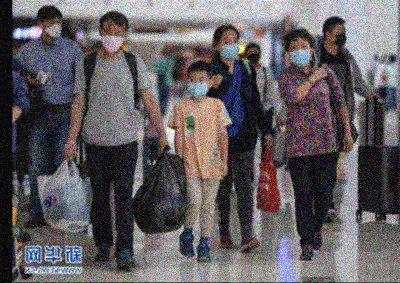with_mask: (100, 24, 123, 53), (288, 40, 311, 67), (219, 33, 239, 59), (187, 74, 208, 98), (44, 16, 62, 38), (330, 24, 346, 47), (245, 49, 260, 64)
